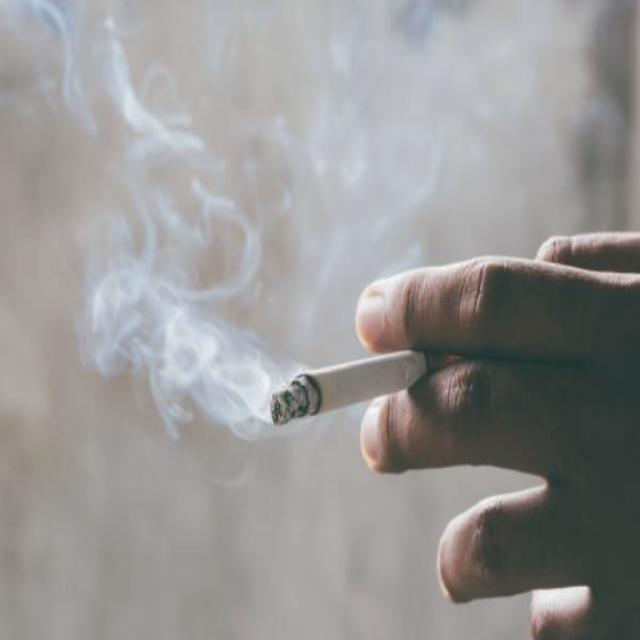cigarette: (268, 330, 428, 438)
